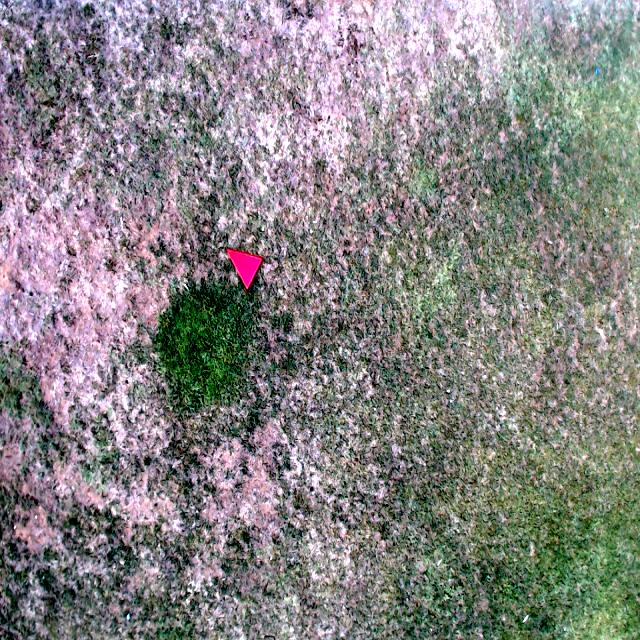red_triangle: (227, 247, 263, 290)
